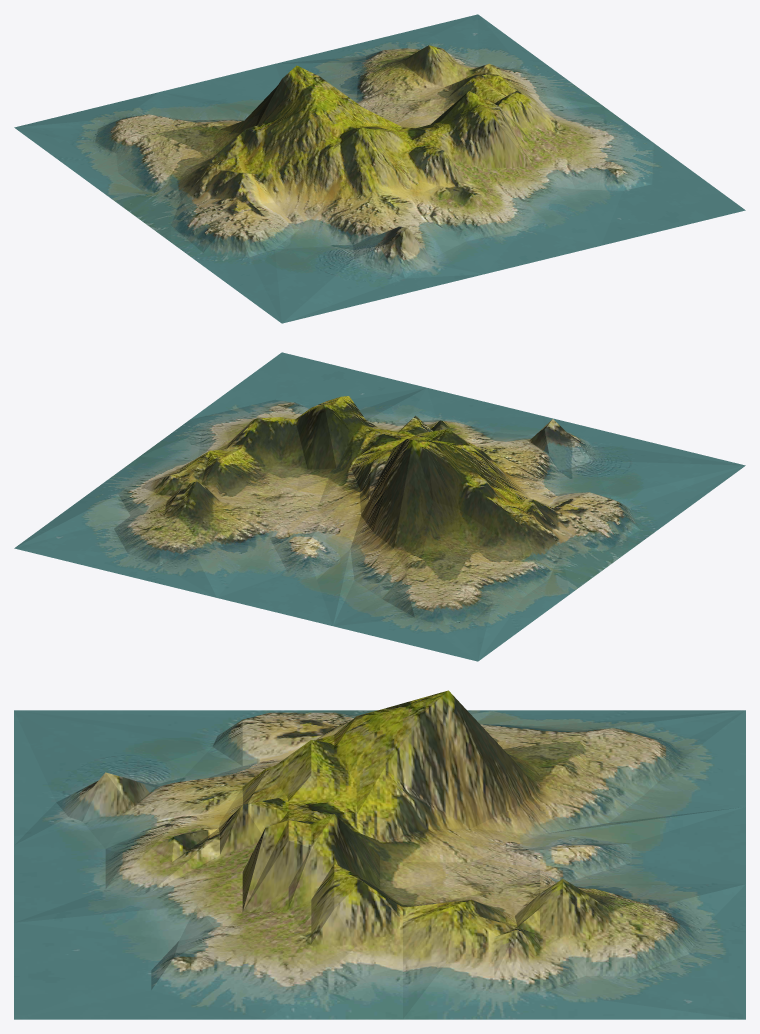
The model's file is F_Island_03.fbx.
3 views of the same model, one above another, from view 1: azimuth 30°, elevation 25°; view 2: azimuth 150°, elevation 25°; view 3: azimuth 270°, elevation 25° (orthographic). The views are drawn at different scales.
Visible parts, largest first — view 1: F_Island_03; view 2: F_Island_03; view 3: F_Island_03.
Part boxes in pixels (bbox=[...]): F_Island_03: bbox=[14, 14, 745, 323]; F_Island_03: bbox=[14, 352, 745, 661]; F_Island_03: bbox=[14, 690, 745, 1019].
Size of the model in its own units: 5.4 by 1.11 by 5.4.
Materials: 1 (1 with a texture image).
